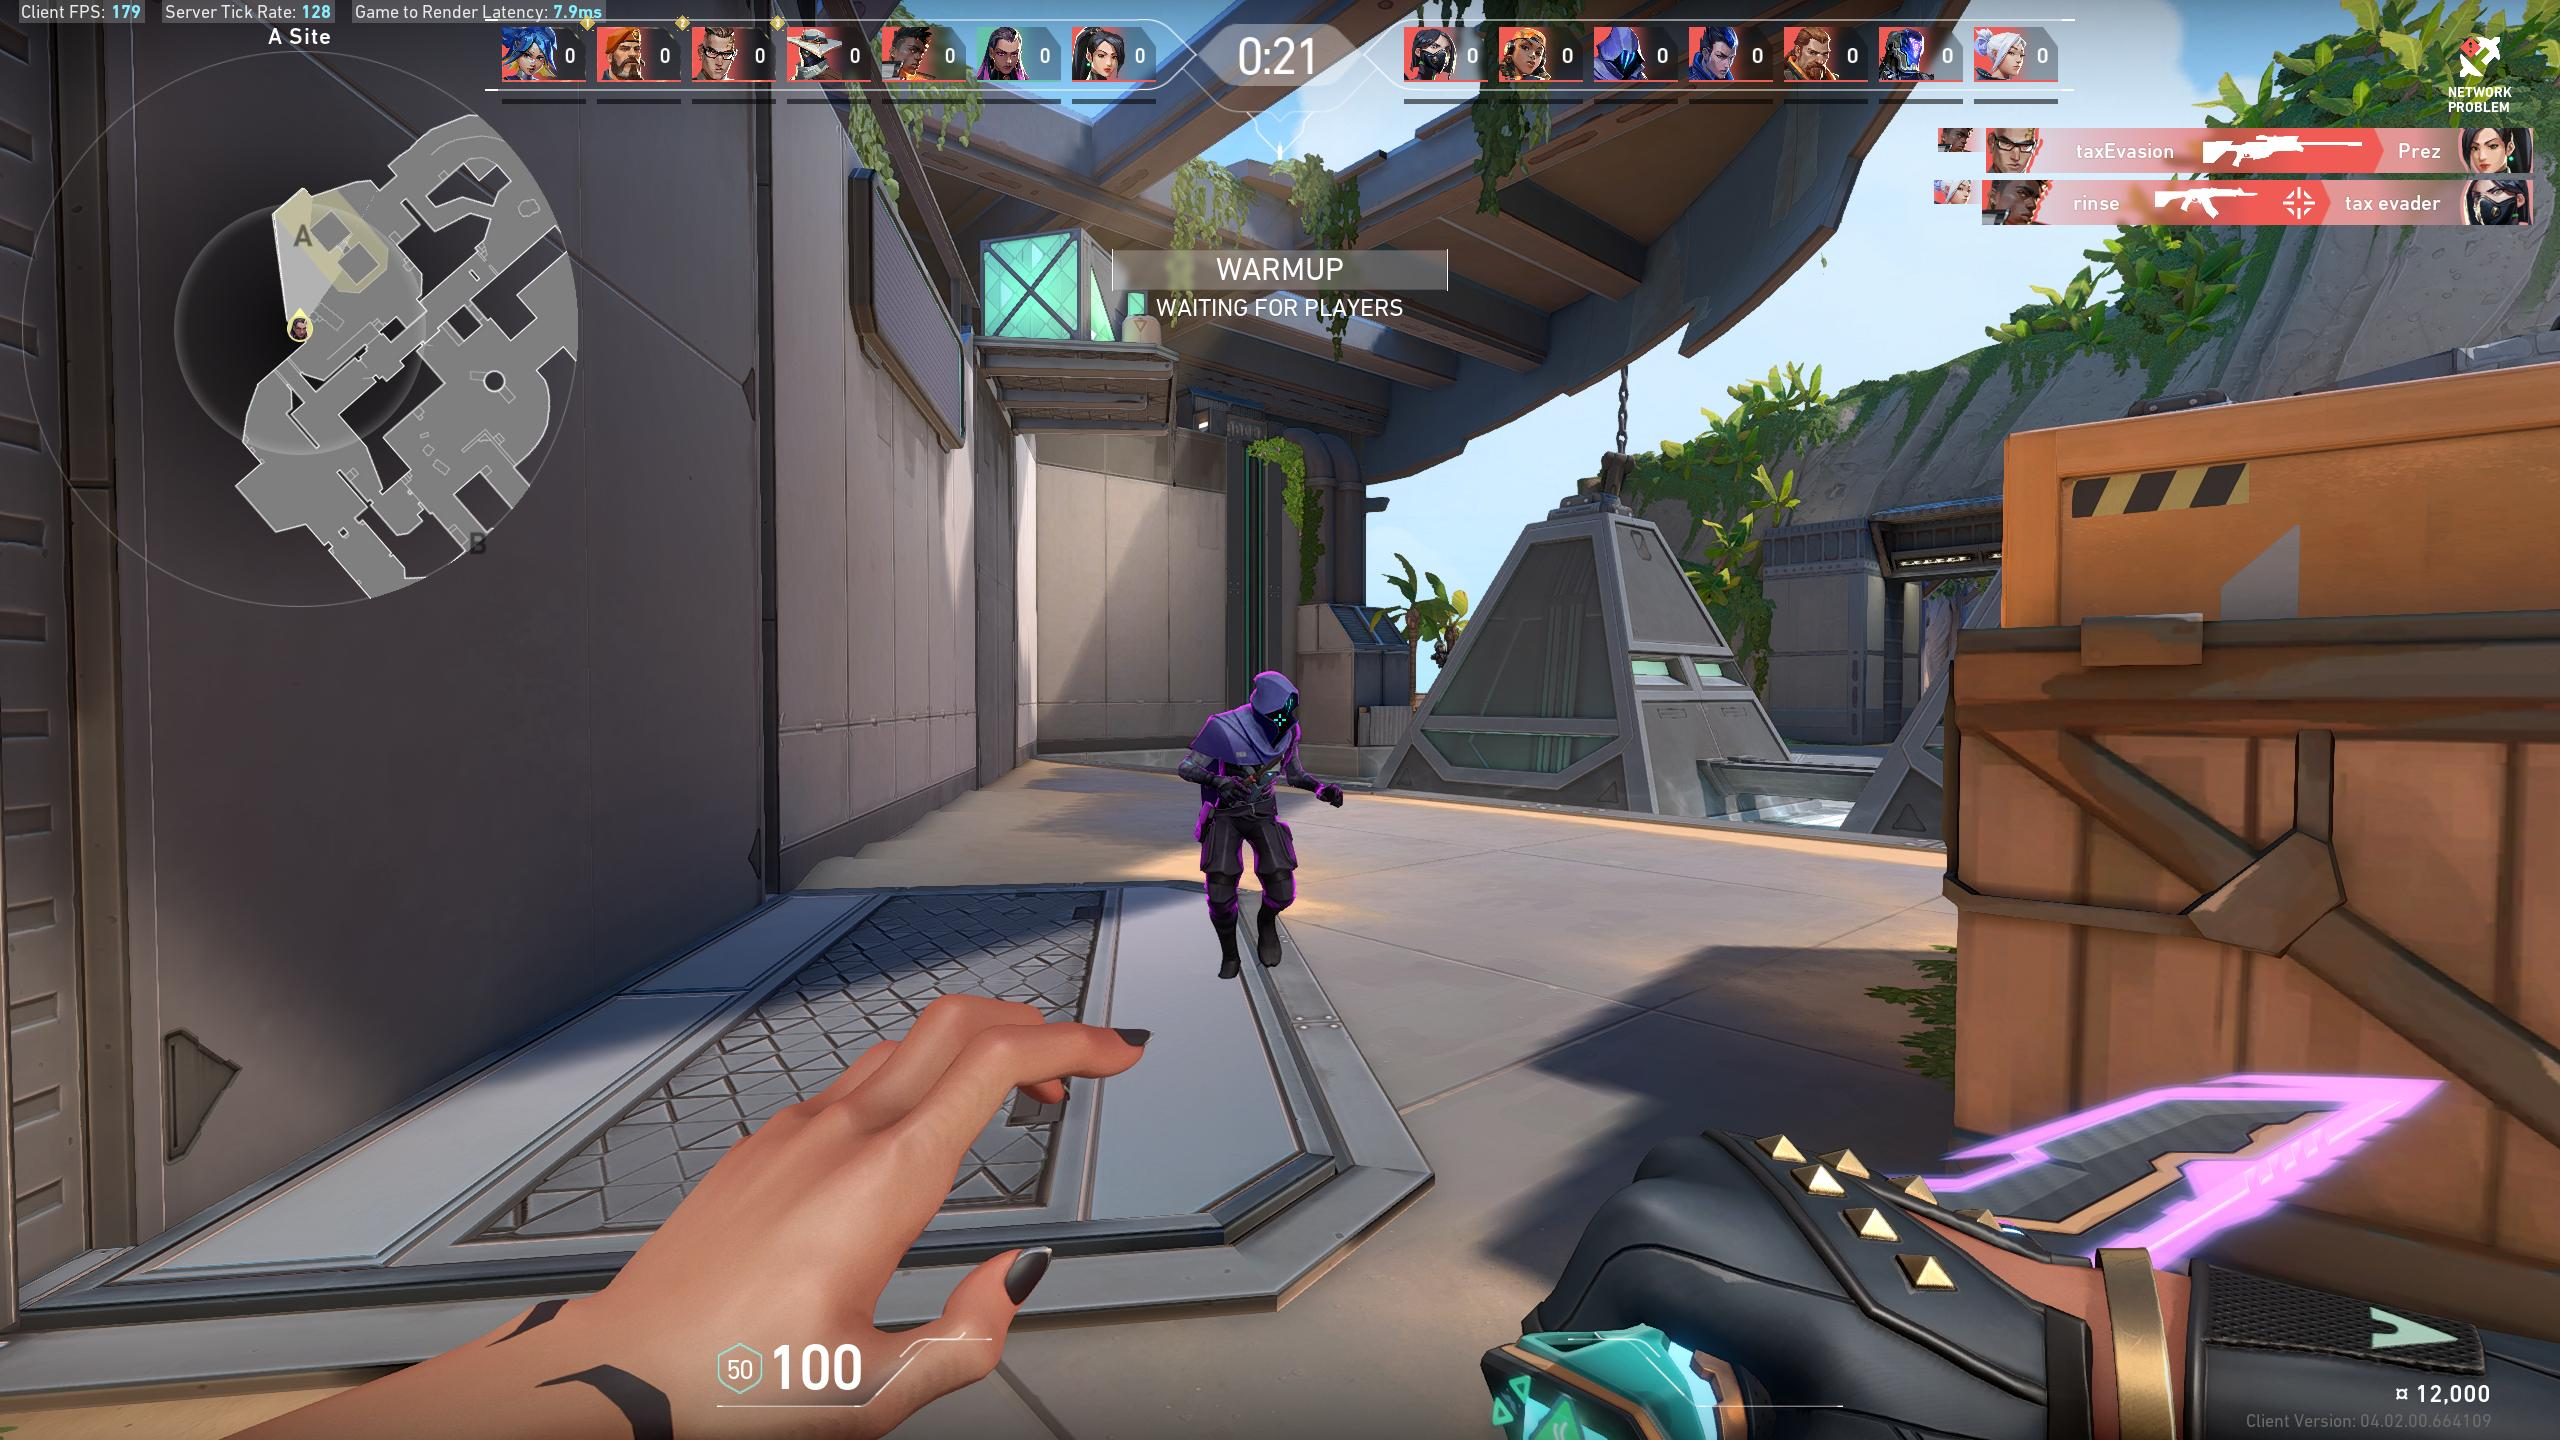enemyBody: (1231, 747, 1268, 811)
enemyHead: (1262, 684, 1292, 738)
